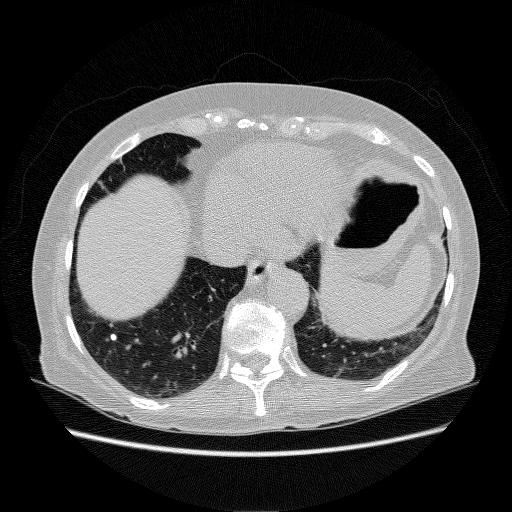nodule: (107, 331, 119, 343)
